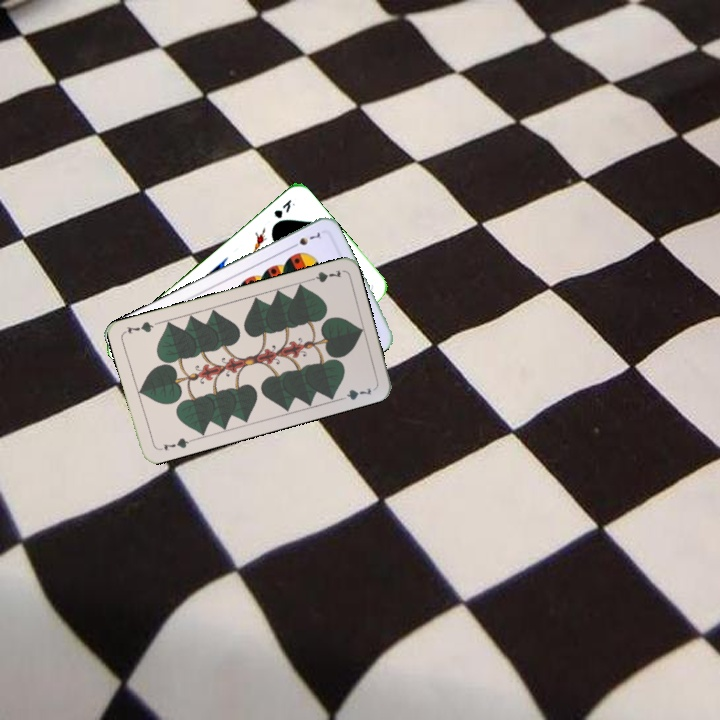G7: (303, 266, 344, 285), (159, 434, 195, 453)
GK: (270, 196, 297, 221)
S7: (286, 228, 324, 251)
